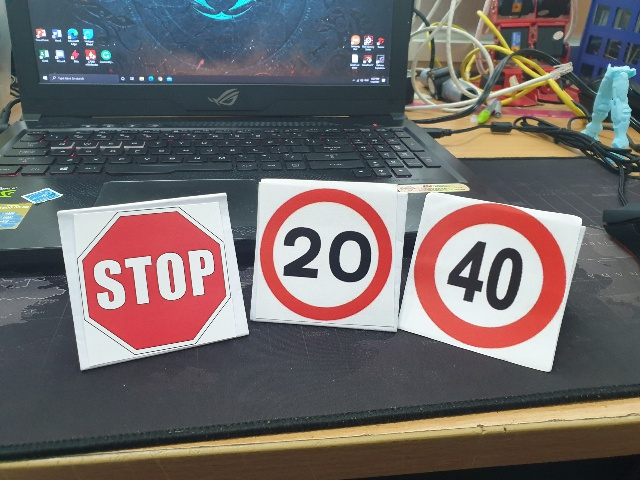Limit 20: (260, 188, 392, 324)
Limit 40: (412, 205, 570, 350)
Stop: (79, 210, 232, 346)
